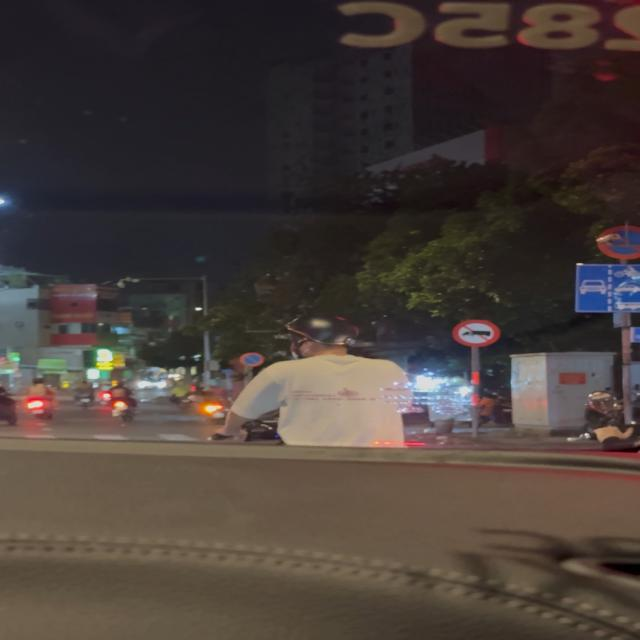Bien bao cam do xe: (238, 351, 269, 368)
Bien bao cam xe so-mi ro-mooc: (447, 320, 506, 348)
